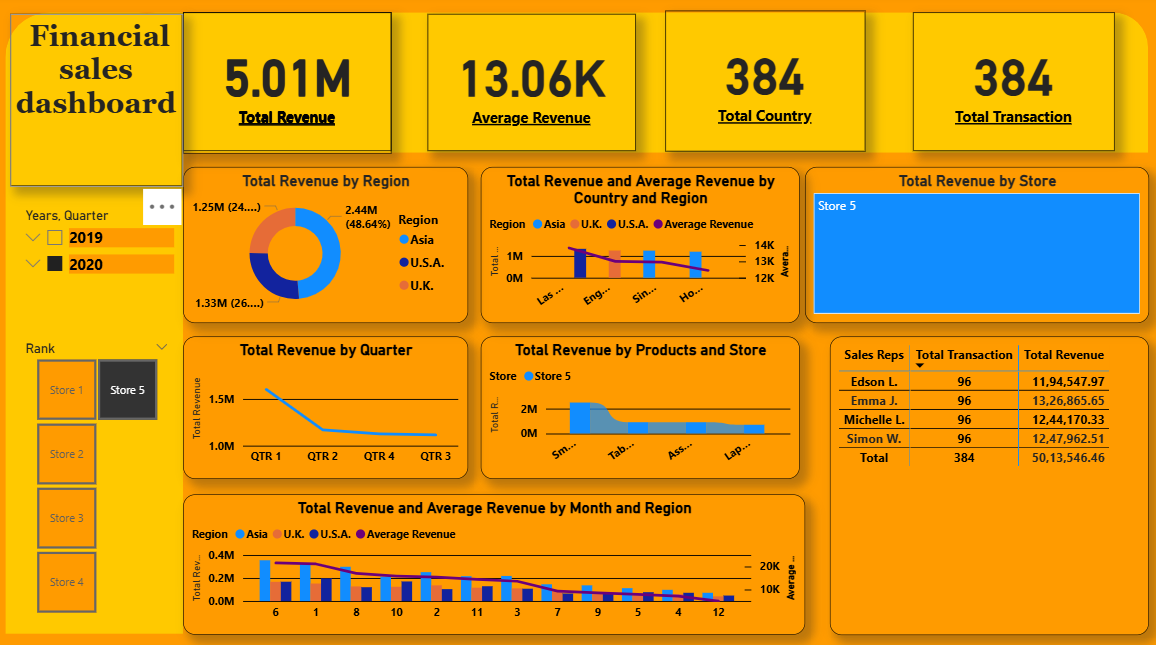

This screenshot's page, from the dashboard's own definition file:
{"tool":"powerbi","page":{"name":"Page 1","canvas":[1280,720],"ordinal":0},"visuals":[{"type":"shape","box":[9.3,20.5,195.2,682.3],"z":0},{"type":"shape","box":[135.7,20.5,1128.5,154.3],"z":1000},{"type":"card","fields":{"Values":["Measure.Total Revenue"]},"box":[204.1,19.7,228.7,154.9],"z":2000},{"type":"card","fields":{"Values":["Measure.Total Revenue"]},"box":[204.5,20.5,228.7,152.5],"z":3000},{"type":"card","fields":{"Values":["Measure.Average Revenue"]},"box":[472.2,22.3,228.7,150.6],"z":4000},{"type":"card","fields":{"Values":["Measure.Total Country"]},"box":[734.4,18.6,219.4,154.3],"z":5000},{"type":"card","fields":{"Values":["Measure.Total Transaction"]},"box":[1005.8,20.5,221.2,152.5],"z":6000},{"type":"donutChart","fields":{"Y":["Measure.Total Revenue"],"Category":["Sheet1.Region"]},"box":[204.1,189,312.5,171.4],"z":7000},{"type":"lineClusteredColumnComboChart","fields":{"Category":["Sheet1.Country"],"Y":["Measure.Total Revenue"],"Y2":["Measure.Average Revenue"],"Series":["Sheet1.Region"]},"box":[531.8,189,350.3,171.4],"z":8000},{"type":"treemap","fields":{"Values":["Measure.Total Revenue"],"Group":["Sheet1.Rank"]},"box":[887.1,189,378,171.4],"z":9000},{"type":"areaChart","fields":{"Category":["Sheet1.Quarter"],"Y":["Measure.Total Revenue"]},"box":[204.1,375.5,312.5,156.3],"z":10000},{"type":"ribbonChart","fields":{"Category":["Sheet1.Products"],"Y":["Measure.Total Revenue"],"Series":["Sheet1.Rank"]},"box":[531.8,375.5,350.3,156.3],"z":11000},{"type":"pivotTable","fields":{"Rows":["Sheet1.Sales Reps"],"Values":["Measure.Total Transaction","Measure.Total Revenue"]},"box":[914.8,375.5,350.3,327.6],"z":12000},{"type":"lineClusteredColumnComboChart","fields":{"Y":["Measure.Total Revenue"],"Y2":["Measure.Average Revenue"],"Series":["Sheet1.Region"],"Category":["Sheet1.Month"]},"box":[204.1,549.4,683,153.7],"z":13000},{"type":"slicer","fields":{"Values":["Sheet1.Years","Sheet1.Quarter"]},"box":[17.6,229.3,181.5,146.2],"z":14000},{"type":"slicer","fields":{"Values":["Sheet1.Rank"]},"box":[17.6,375.5,181.5,310],"z":15000},{"type":"textbox","box":[15.1,22.7,189,189],"z":16000}]}

Visuals, with their boxes in screenshot pixels (x1, y1, x2, y2), scaled from the page's 1280x720 canvas onto the 1156x645 screenshot:
shape: bbox=[8, 18, 185, 630]
shape: bbox=[123, 18, 1142, 157]
card - Measure.Total Revenue: bbox=[184, 18, 391, 156]
card - Measure.Total Revenue: bbox=[185, 18, 391, 155]
card - Measure.Average Revenue: bbox=[426, 20, 633, 155]
card - Measure.Total Country: bbox=[663, 17, 861, 155]
card - Measure.Total Transaction: bbox=[908, 18, 1108, 155]
donutChart - Measure.Total Revenue x Sheet1.Region: bbox=[184, 169, 467, 323]
lineClusteredColumnComboChart - Sheet1.Country x Measure.Total Revenue: bbox=[480, 169, 797, 323]
treemap - Measure.Total Revenue x Sheet1.Rank: bbox=[801, 169, 1143, 323]
areaChart - Sheet1.Quarter x Measure.Total Revenue: bbox=[184, 336, 467, 476]
ribbonChart - Sheet1.Products x Measure.Total Revenue: bbox=[480, 336, 797, 476]
pivotTable - Sheet1.Sales Reps x Measure.Total Transaction: bbox=[826, 336, 1143, 630]
lineClusteredColumnComboChart - Measure.Total Revenue x Measure.Average Revenue: bbox=[184, 492, 801, 630]
slicer - Sheet1.Years x Sheet1.Quarter: bbox=[16, 205, 180, 336]
slicer - Sheet1.Rank: bbox=[16, 336, 180, 614]
textbox: bbox=[14, 20, 184, 190]
